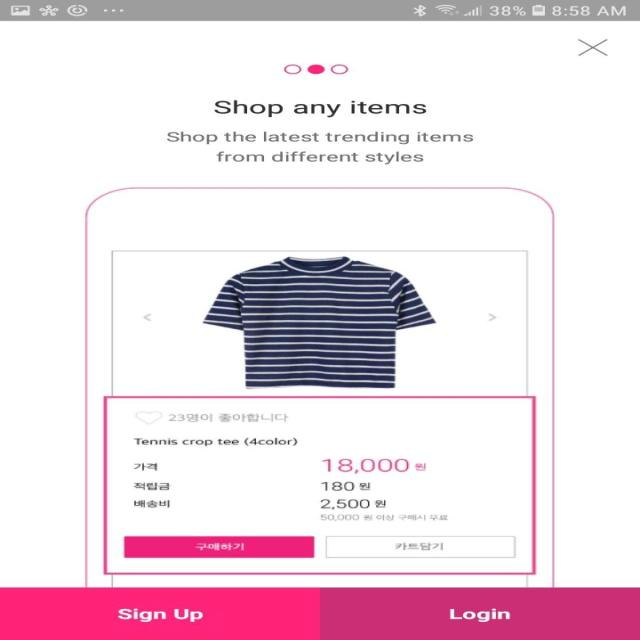Icon: (576, 38, 608, 56)
Image: (84, 187, 554, 587)
Text: (166, 131, 473, 164), (213, 100, 427, 118)
TextButton: (319, 587, 639, 640), (0, 587, 319, 640)
